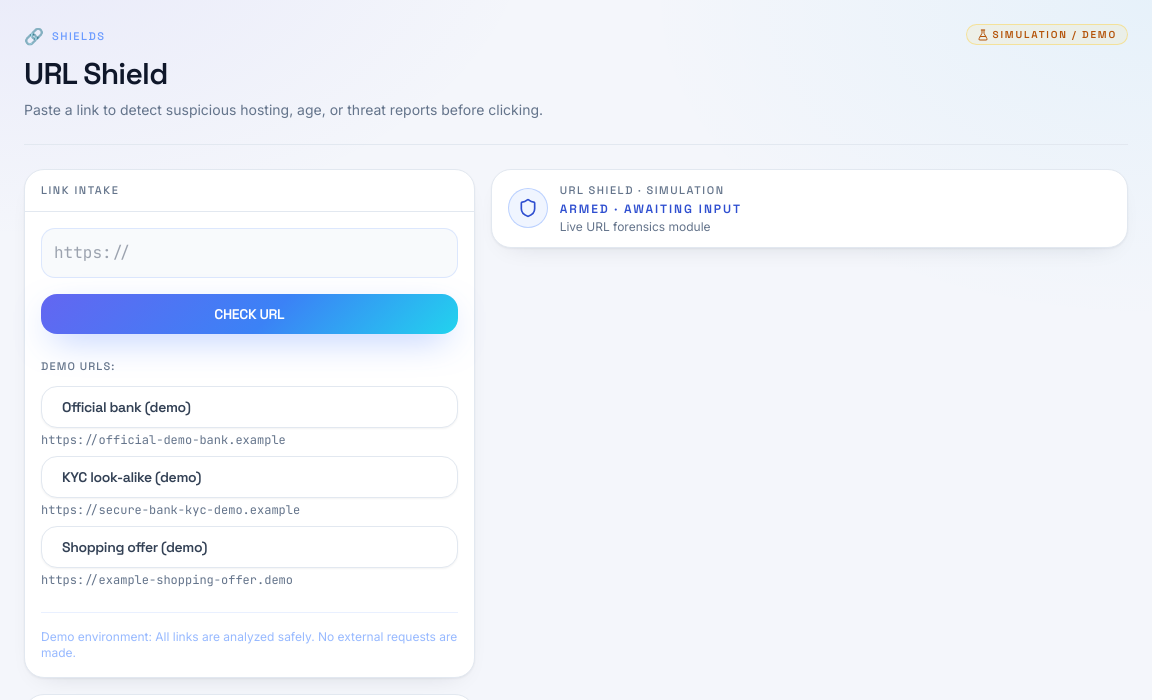
Test: UrlShield › shows error notice for invalid url
This screenshot has width=1152, height=700.
In the field named "URL to analyze": (249, 252) [41,228,458,278], type "not a url"
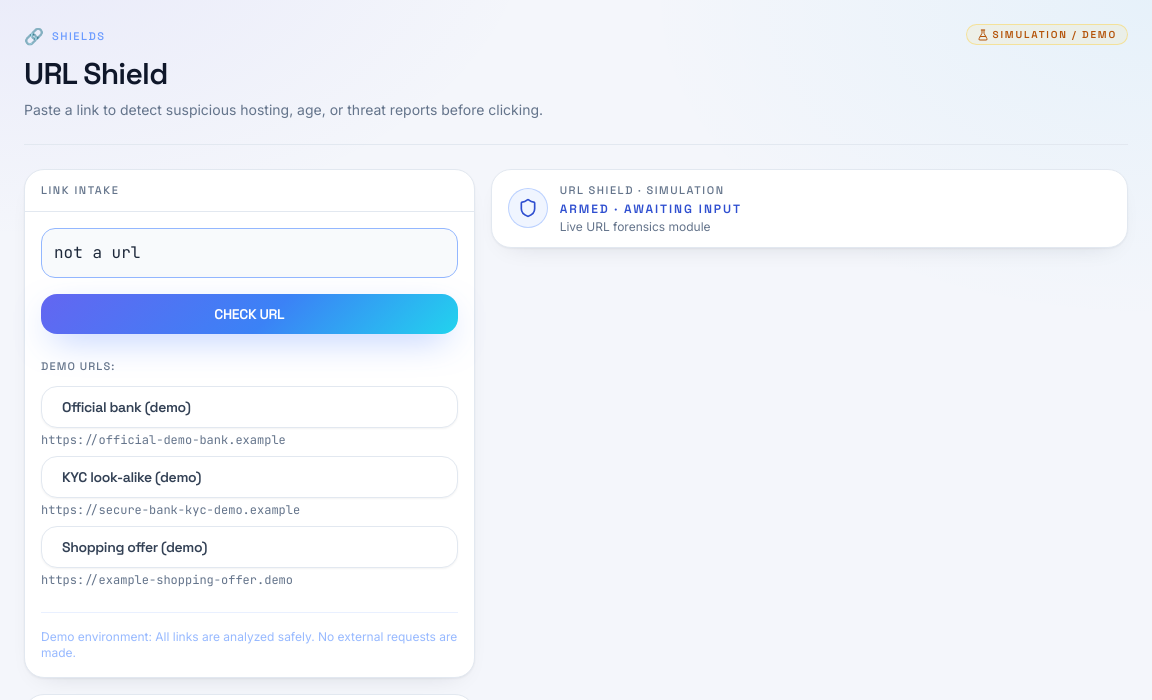
Click the button "CHECK URL": (249, 314) [41,294,458,334]
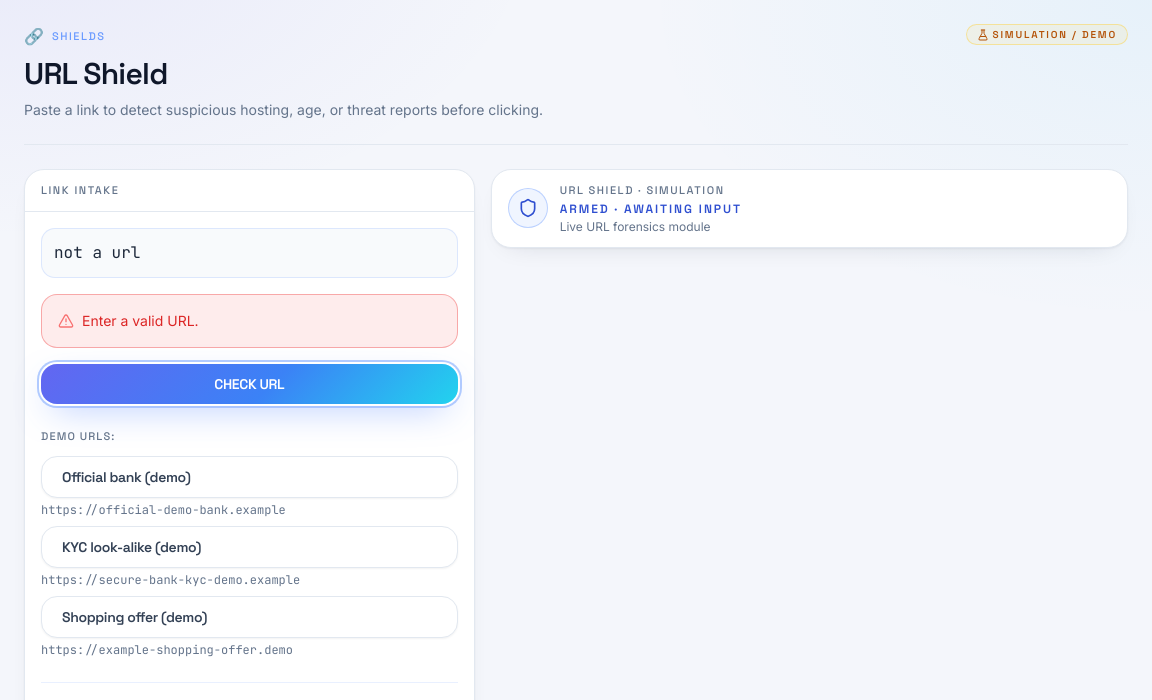
Check: the message "Enter a valid URL." is shown, box [41,294,458,348]
